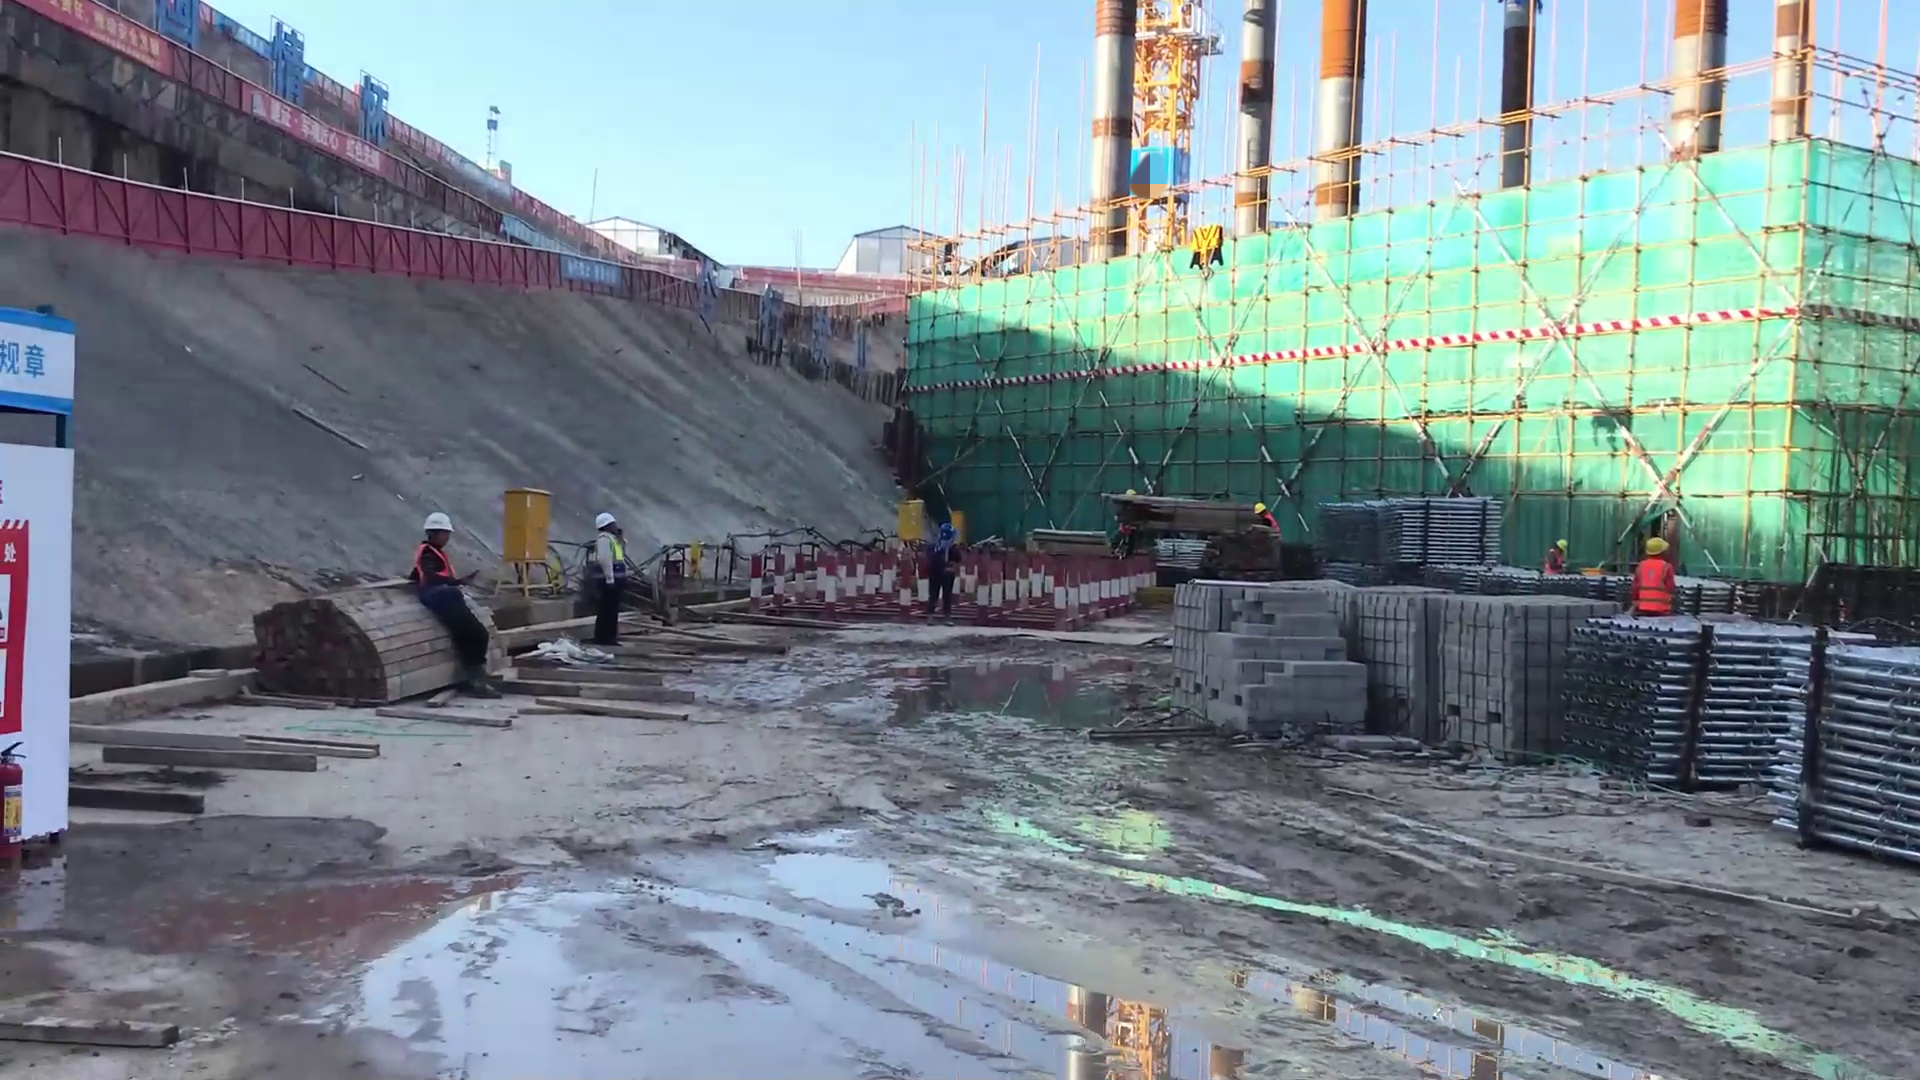brick: (1171, 585, 1554, 772)
ebox: (503, 487, 553, 562)
fence: (1, 149, 532, 271)
helmet: (583, 511, 627, 547), (411, 507, 455, 533), (1646, 538, 1668, 556), (935, 522, 958, 539), (1548, 536, 1570, 549), (1253, 502, 1270, 514)
hook: (1184, 214, 1263, 291)
person: (400, 499, 498, 701), (576, 503, 630, 648), (1626, 530, 1676, 618), (928, 517, 960, 628), (1542, 531, 1572, 579), (1248, 497, 1281, 540)
scaffold: (1571, 612, 1769, 812), (1775, 637, 1920, 853), (1326, 490, 1499, 574)
vest: (410, 539, 460, 585), (1633, 558, 1669, 611), (932, 540, 956, 574), (1544, 550, 1566, 577), (1259, 511, 1279, 532)
wood: (238, 593, 428, 708)
